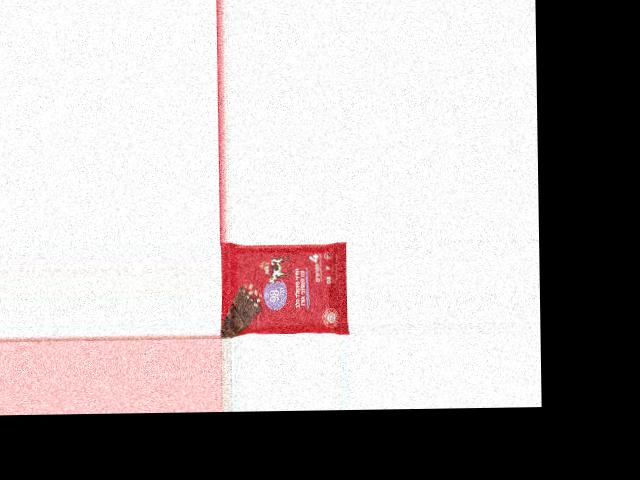chocolate: (220, 240, 350, 334)
